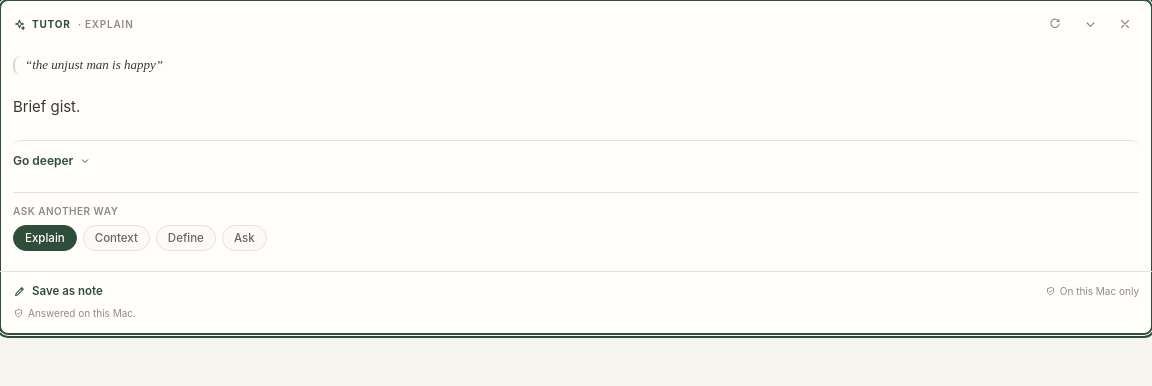
Test: MarginTutorCard — brief default + go deeper › saves brief + deep + optional takeaway as one TutorNote
Click the button "Go deeper".
click(43, 160)  # box [13,140,1139,170]
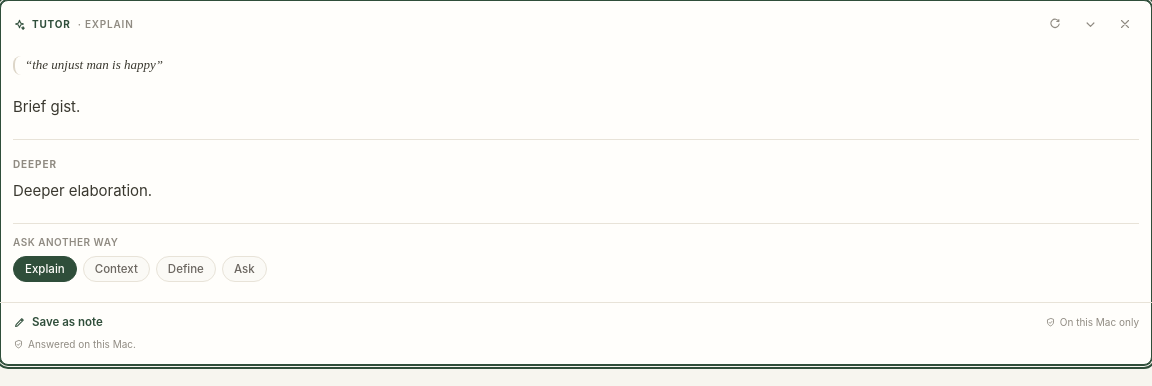
Note: The footer accent button opens the save form…
Click the button "Save as note".
click(58, 322)  # box [13,315,103,329]
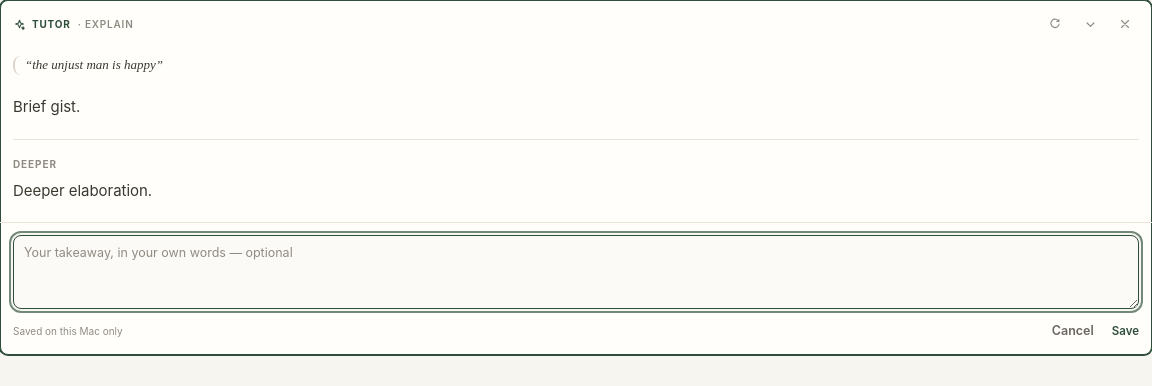
Type "my words" into the text box with placeholder "Your takeaway, in your own words — optional".
click(576, 272); type("my words")  # box [13,235,1139,310]
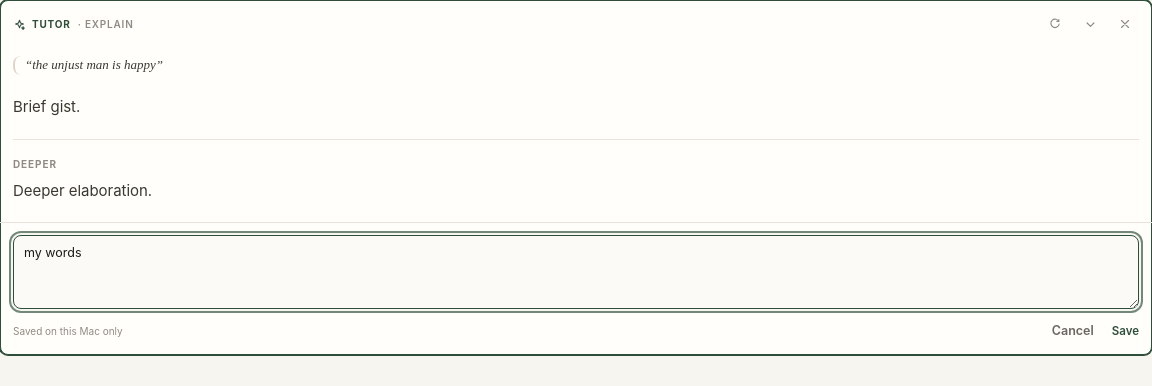
Note: …and the form's confirm button persists the note.
Click the button "Save".
click(1125, 331)  # box [1112,324,1139,338]
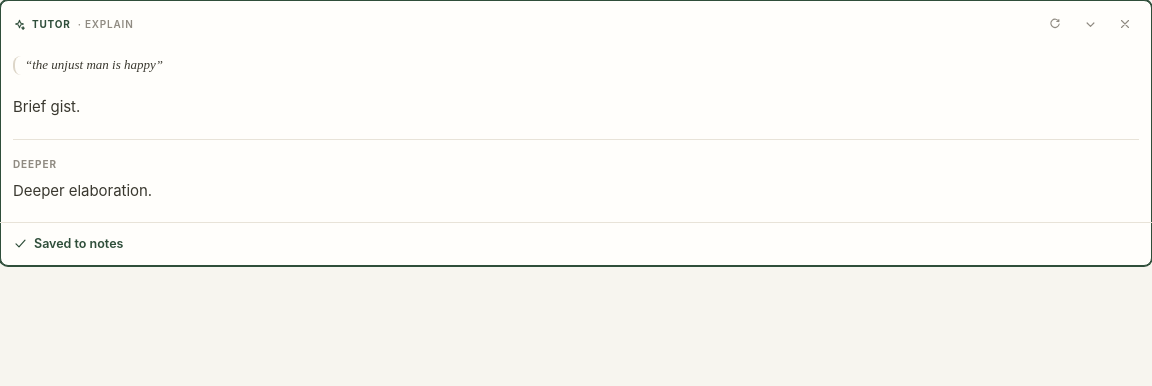
Expected: the text "Saved to notes" is shown, [13,236,123,251]
